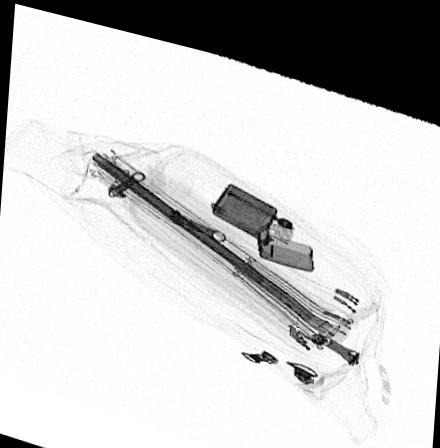Lighter: (212, 170, 315, 256)
